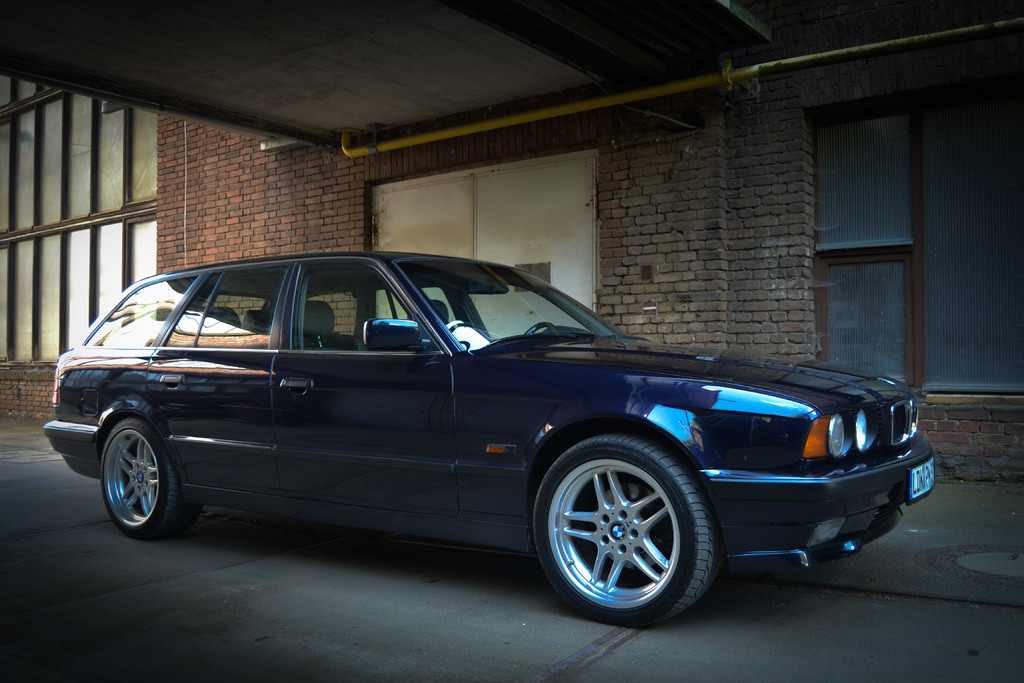mobil: (45, 247, 942, 634)
